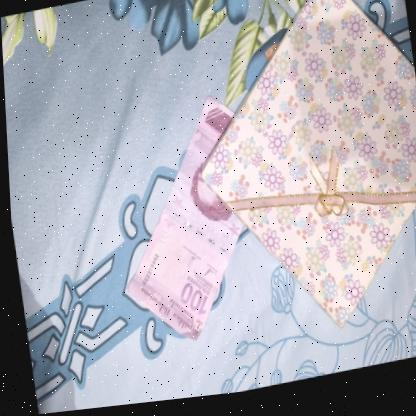one_hundred-front-vef: (99, 92, 262, 358)
